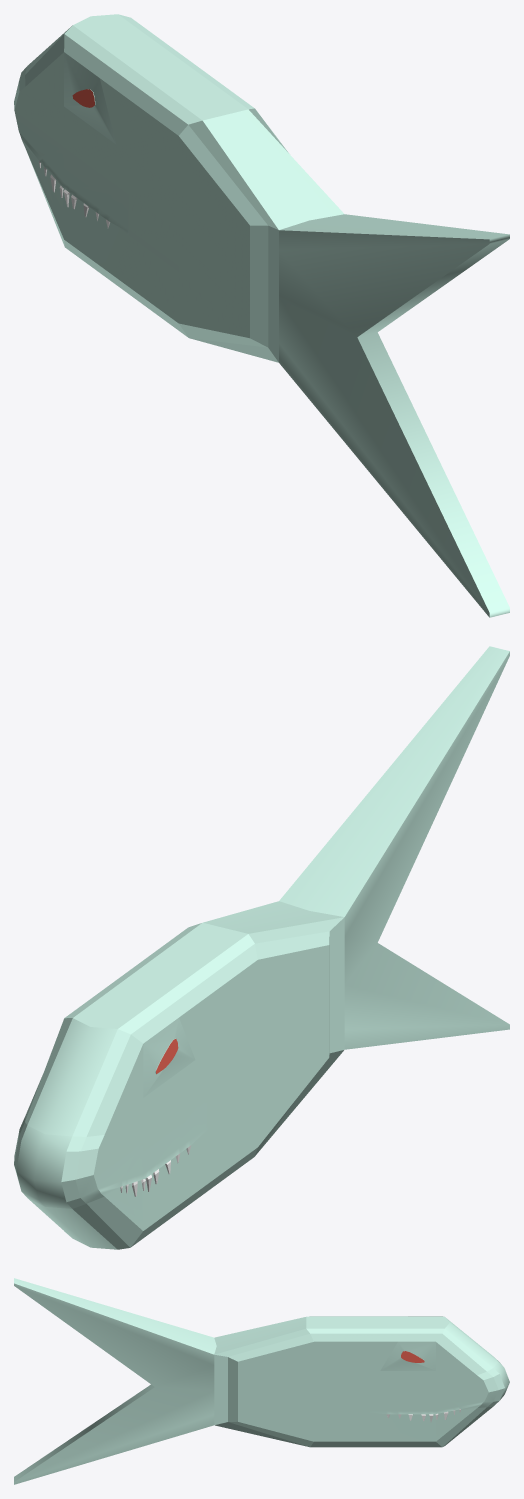
File: bigfish.fbx
3 views of the same model, one above another, from view 1: azimuth 30°, elevation 25°; view 2: azimuth 150°, elevation 25°; view 3: azimuth 270°, elevation 25° (orthographic). The views are drawn at different scales.
Parts seen in each view (by area): view 1: pasted__pCube5; view 2: pasted__pCube5; view 3: pasted__pCube5.
Boxes of the visible parts, bbox=[...] form: pasted__pCube5: bbox=[14, 14, 509, 617]; pasted__pCube5: bbox=[14, 646, 509, 1249]; pasted__pCube5: bbox=[14, 1278, 509, 1484].
Bounding box in the file's own units: 7.07 × 30.03 × 66.99.
